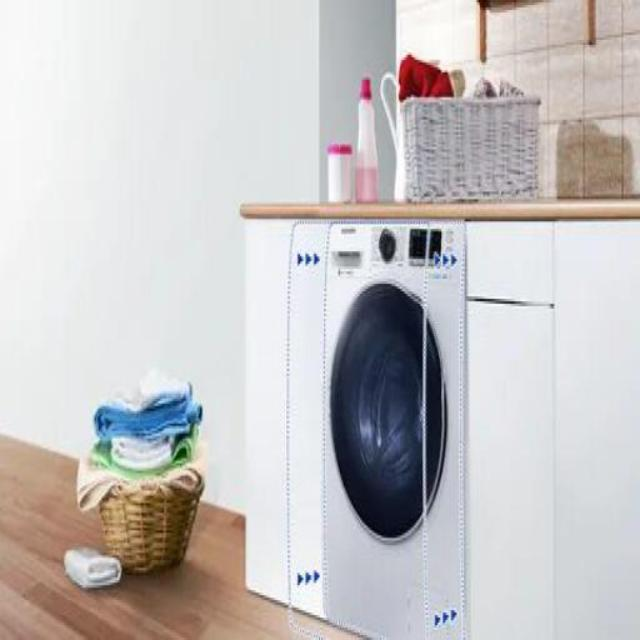Washing-Machine: (305, 220, 465, 638)
